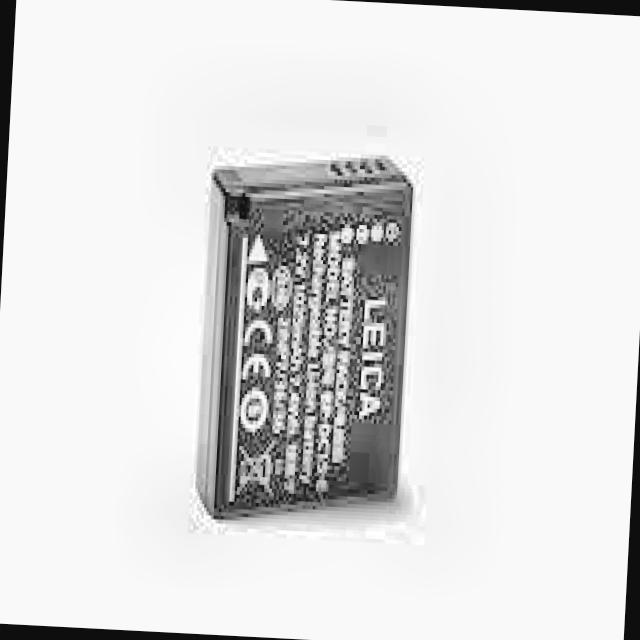Battery: (198, 148, 414, 522)
